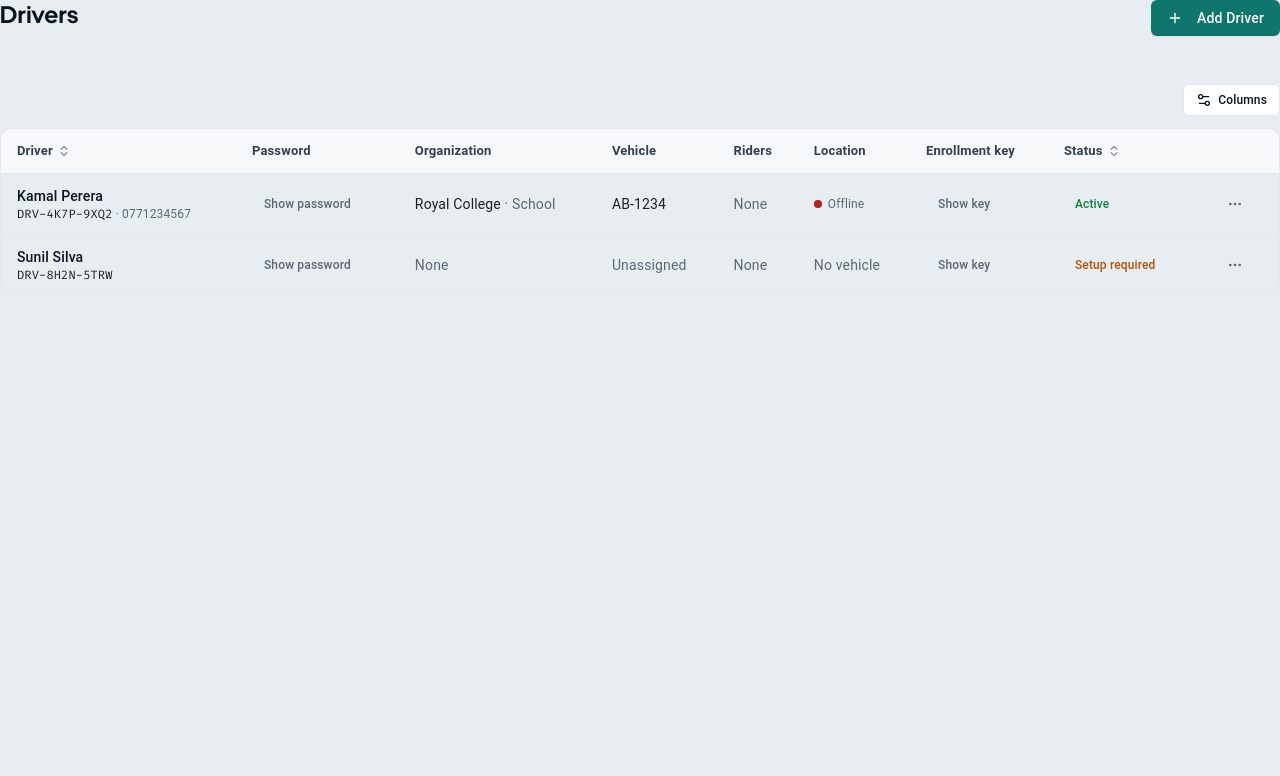
Test: ManagerAccountsPage: add driver form › lays the form out in the three numbered sections
Click the button "Add Driver": [1215, 18] box [1151,0,1279,36]
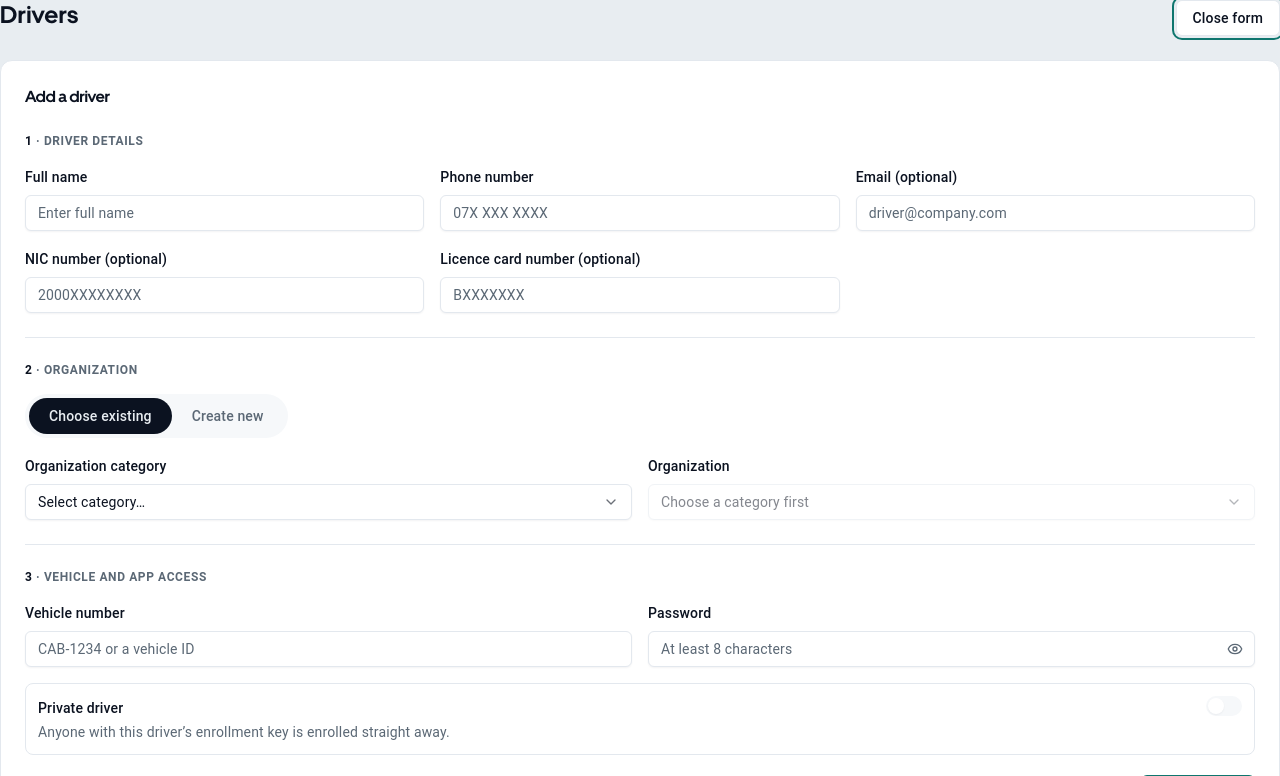
Now the heading "1 · Driver details" is shown, box [25,134,143,148]
Now the heading "2 · Organization" is shown, box [25,363,138,377]
Now the heading "3 · Vehicle and app access" is shown, box [25,570,207,584]
